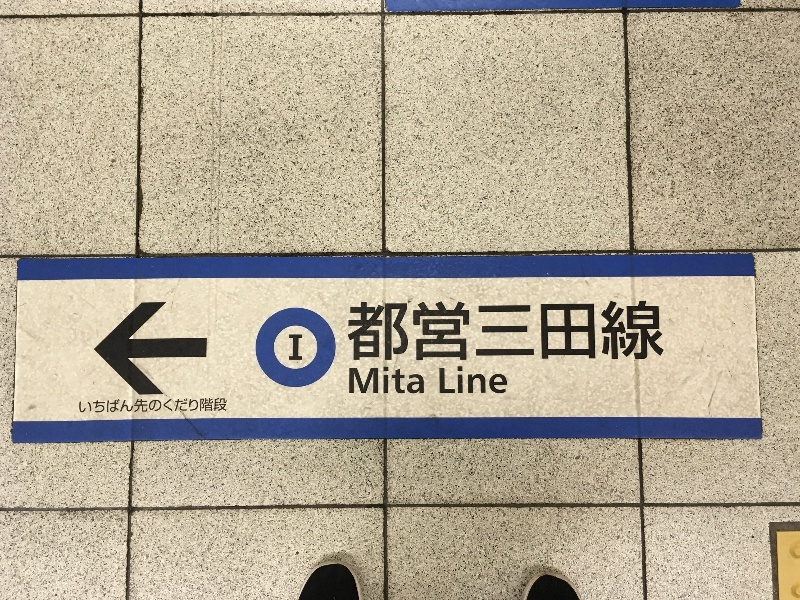text: (353, 301, 368, 362), (369, 301, 384, 362), (385, 301, 400, 362), (401, 301, 416, 362), (417, 301, 432, 362), (433, 301, 448, 362), (449, 301, 464, 362), (465, 301, 480, 362), (481, 301, 496, 362), (497, 301, 512, 362), (513, 301, 528, 362), (529, 301, 544, 362), (545, 301, 560, 362), (561, 301, 576, 362), (577, 301, 592, 362), (593, 301, 608, 362), (609, 301, 624, 362), (625, 301, 640, 362), (641, 301, 656, 362), (449, 365, 464, 394), (465, 365, 480, 394), (481, 365, 496, 394), (657, 301, 664, 362), (353, 368, 368, 394), (369, 368, 384, 394), (385, 368, 400, 394), (401, 368, 416, 394), (290, 335, 304, 361), (497, 365, 508, 394), (440, 365, 448, 394), (81, 399, 96, 413), (97, 399, 112, 413), (113, 399, 128, 413), (129, 399, 144, 413), (145, 399, 160, 413), (161, 399, 176, 413), (177, 399, 192, 413), (193, 399, 208, 413), (209, 399, 224, 413), (349, 301, 352, 362), (417, 368, 424, 394), (350, 368, 352, 394), (225, 399, 227, 413), (79, 399, 80, 413)
